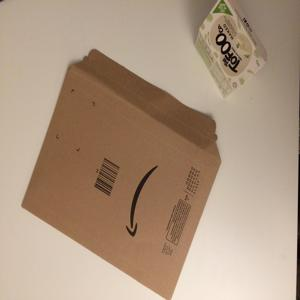cardboard: (14, 48, 241, 293), (194, 1, 276, 97)
